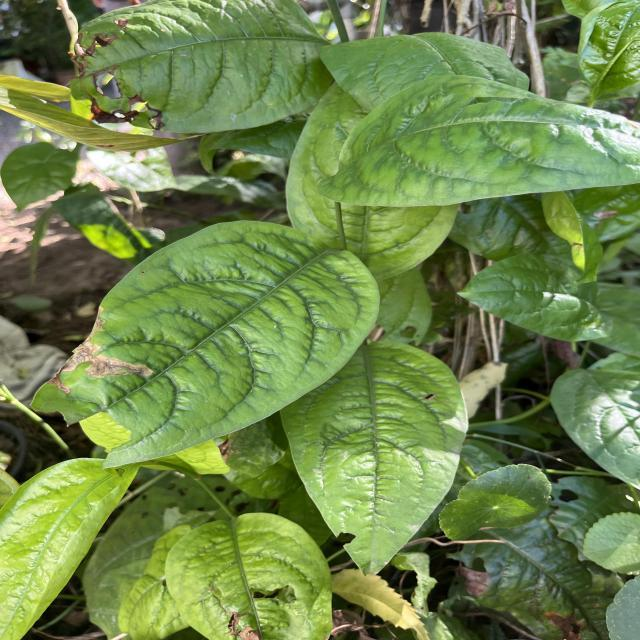Plumbago indica: (26, 217, 385, 470), (280, 335, 470, 580), (320, 68, 640, 210)
